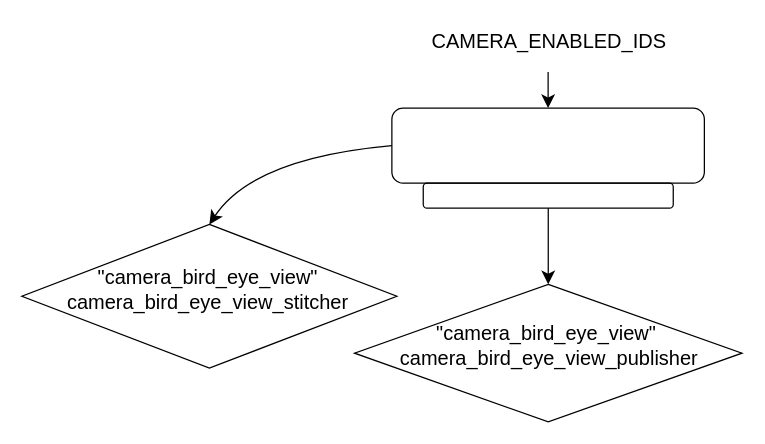
Image size: 765x444. Some labels were removed from this diagram. Here are the shapes that lost their labels. From the top down, the centre of each, then its label:
the point at 547,145: "camera_bird_eye_view" bird_eye_view.launch.py
the point at 547,195: for each camera_id in camera_ids
